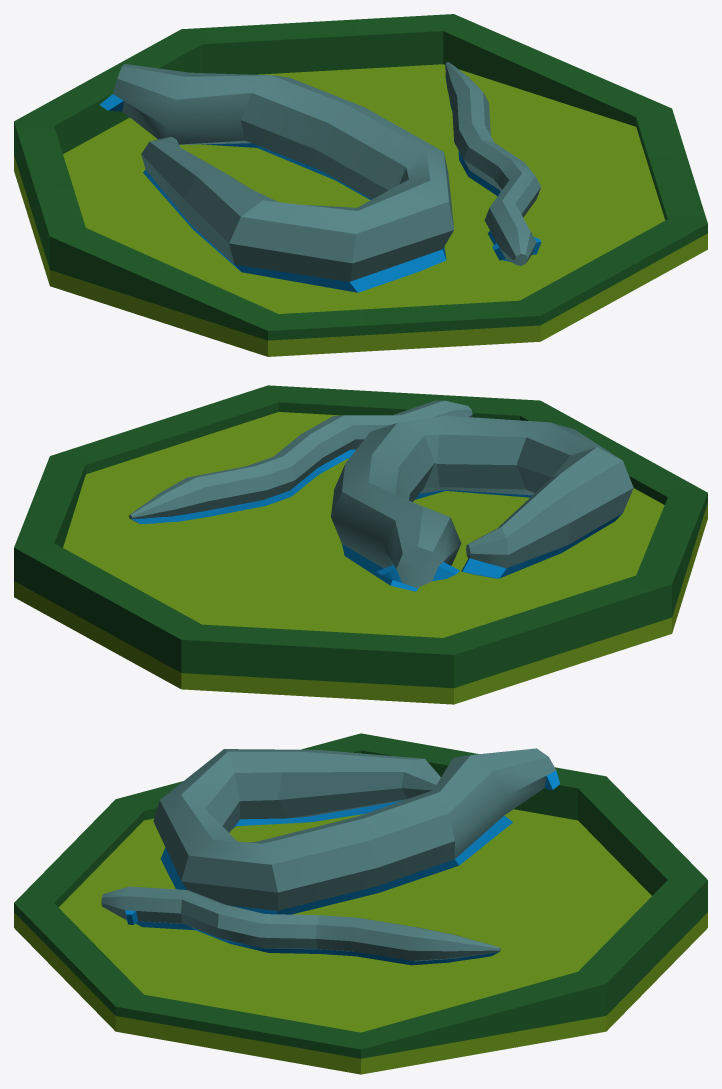
File: Nature_Eels_On_Lilypad (1).fbx
3 views of the same model, one above another, from view 1: azimuth 30°, elevation 25°; view 2: azimuth 150°, elevation 25°; view 3: azimuth 270°, elevation 25° (orthographic). The views are drawn at different scales.
Visible parts, largest first — view 1: polySurface41; view 2: polySurface41; view 3: polySurface41.
Part boxes in pixels (x1,y1,x2,y2): polySurface41: (14, 14, 707, 356); polySurface41: (14, 385, 707, 704); polySurface41: (14, 733, 707, 1074).
Size of the model in its own units: 243 by 45.15 by 243.
